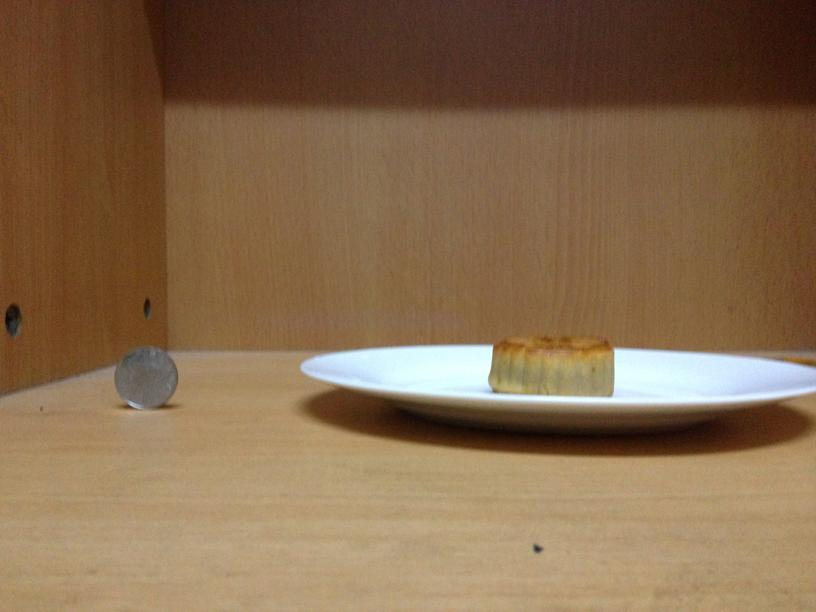coin: (112, 345, 179, 408)
mooncake: (484, 334, 616, 397)
